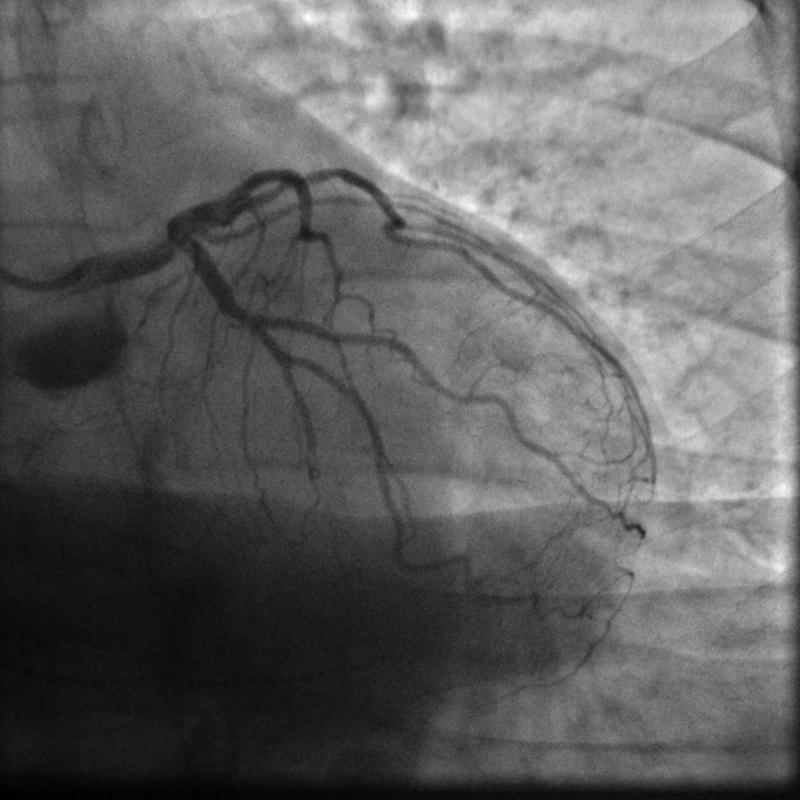Stenosis: (231, 287, 256, 344)
